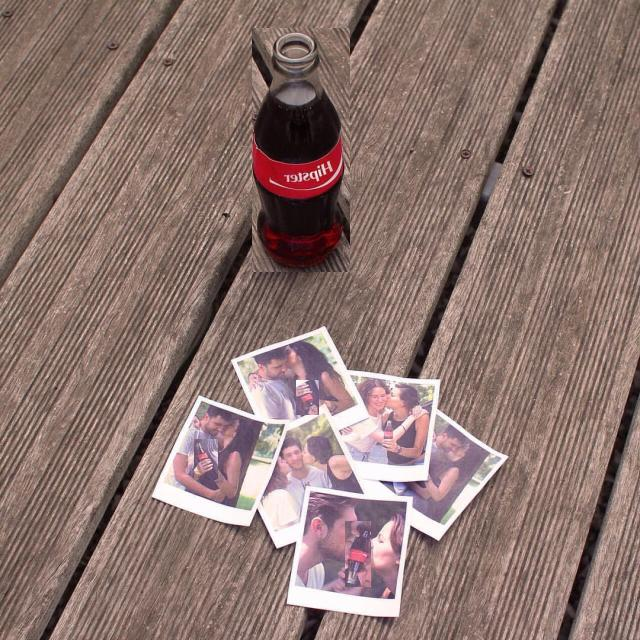coca-cola: (252, 29, 350, 272), (345, 522, 371, 588), (194, 439, 218, 480), (296, 380, 319, 415)
